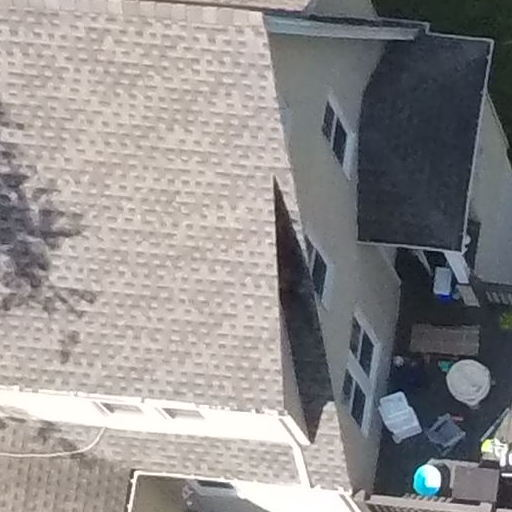chair: (417, 408, 471, 455)
continer: (378, 388, 412, 419)
table: (408, 313, 490, 369), (445, 350, 497, 408)
